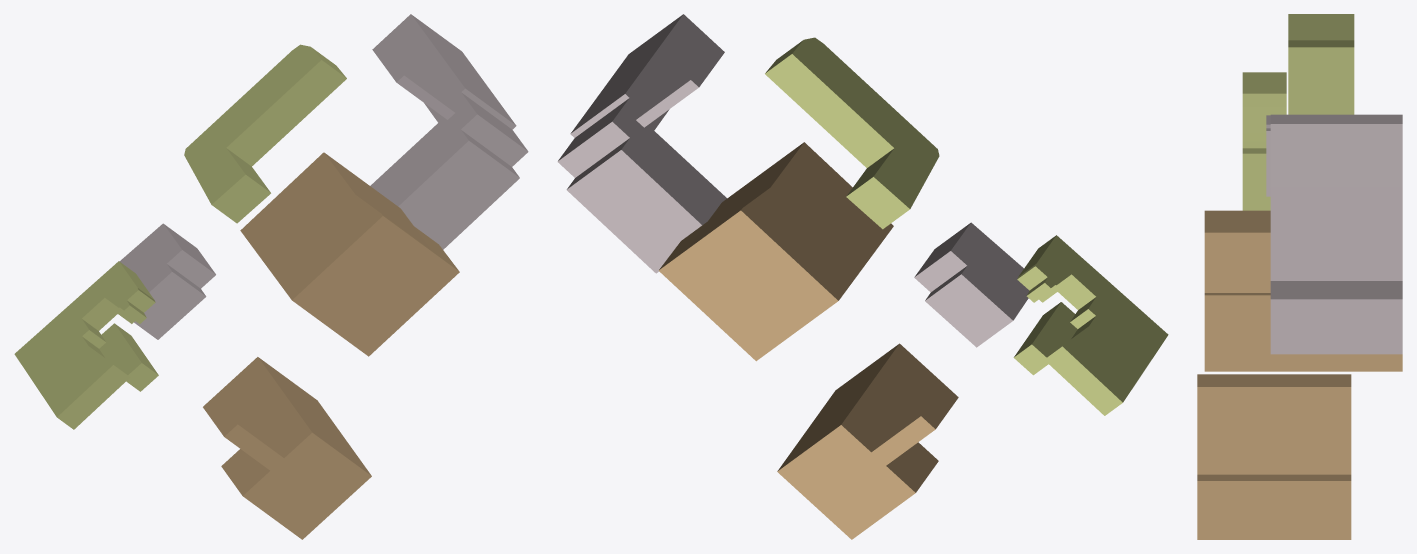
The picture shows the model from 3 angles, left to right: view 1: azimuth 30°, elevation 25°; view 2: azimuth 150°, elevation 25°; view 3: azimuth 270°, elevation 25°; orthographic projection. The views are drawn at different scales.
Parts seen in each view (by area): view 1: 0_1_0_0_3_3_0_0; view 2: 0_1_0_0_3_3_0_0; view 3: 0_1_0_0_3_3_0_0.
Part boxes in pixels (x1=…): 0_1_0_0_3_3_0_0: x1=14, y1=14, x2=528, y2=539; 0_1_0_0_3_3_0_0: x1=557, y1=14, x2=1168, y2=539; 0_1_0_0_3_3_0_0: x1=1197, y1=14, x2=1402, y2=539.
Bounding box in the file's own units: 103 × 84.57 × 28.
